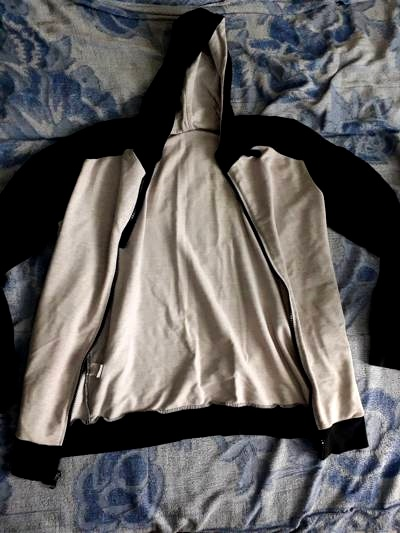Hoodie: (7, 3, 390, 481)
